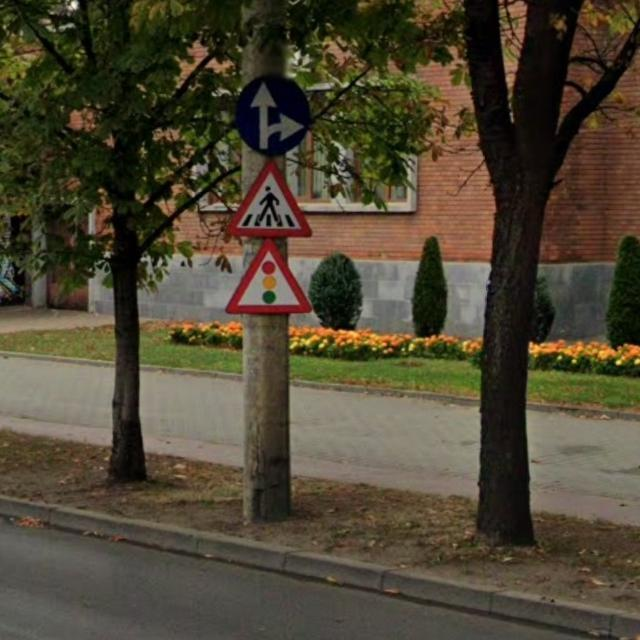warn_crosswalk: (229, 160, 312, 239)
